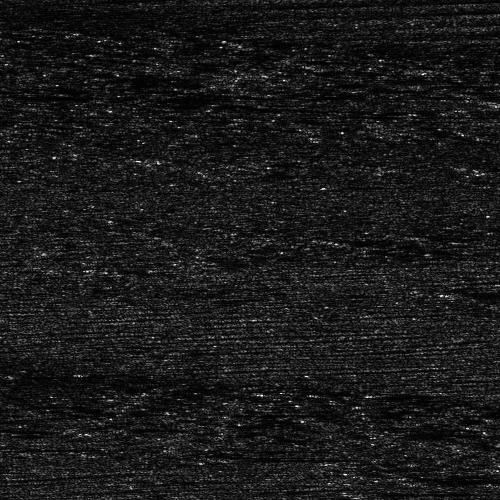rock: (324, 490, 365, 495)
shadow: (231, 455, 345, 460), (345, 490, 456, 495)
